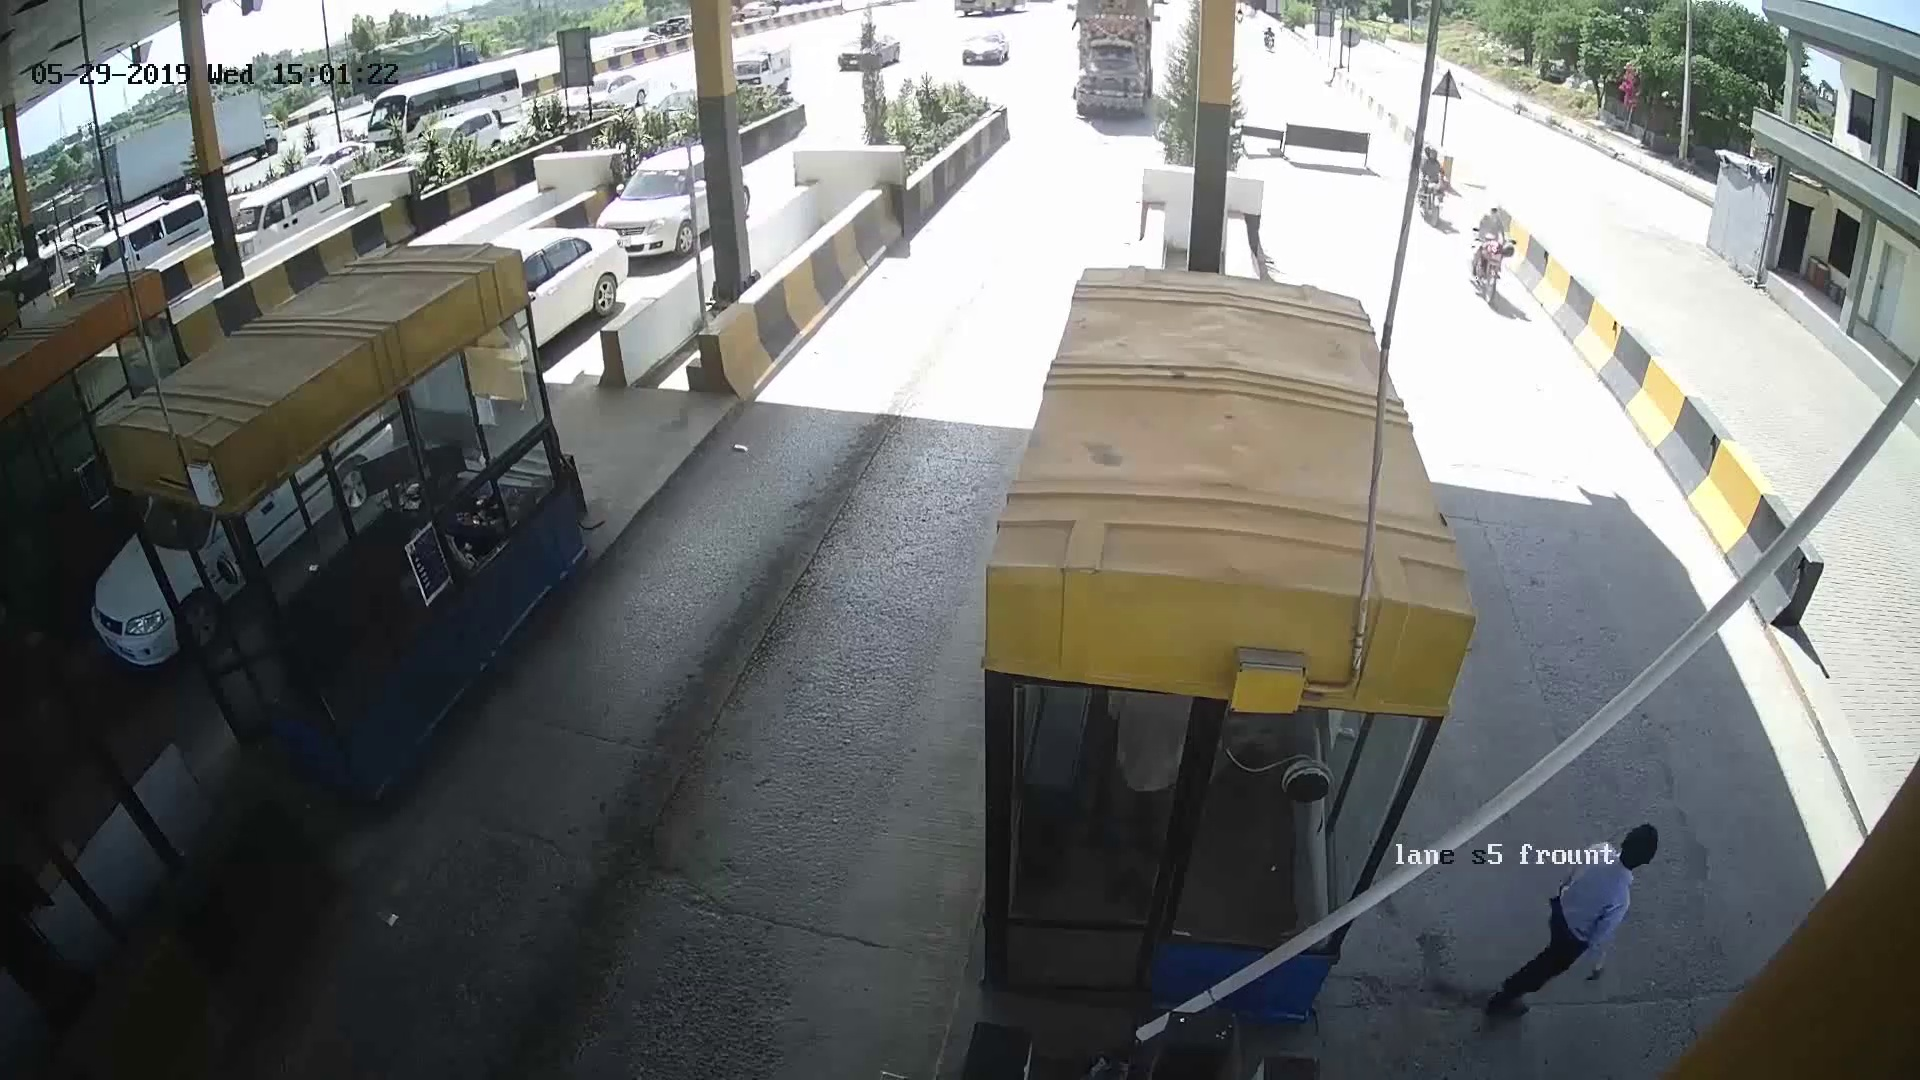truck: (1064, 18, 1160, 119)
